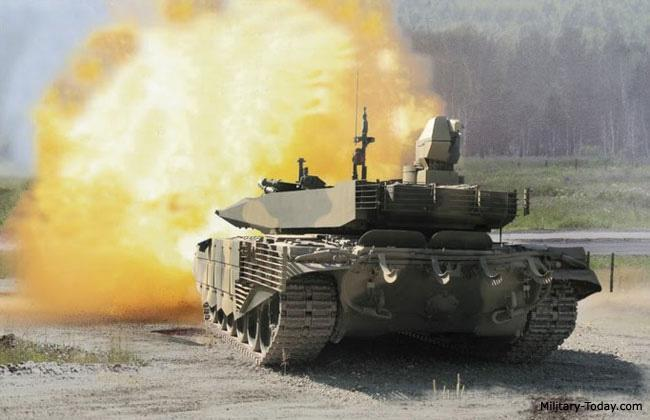tank: (194, 104, 603, 368)
